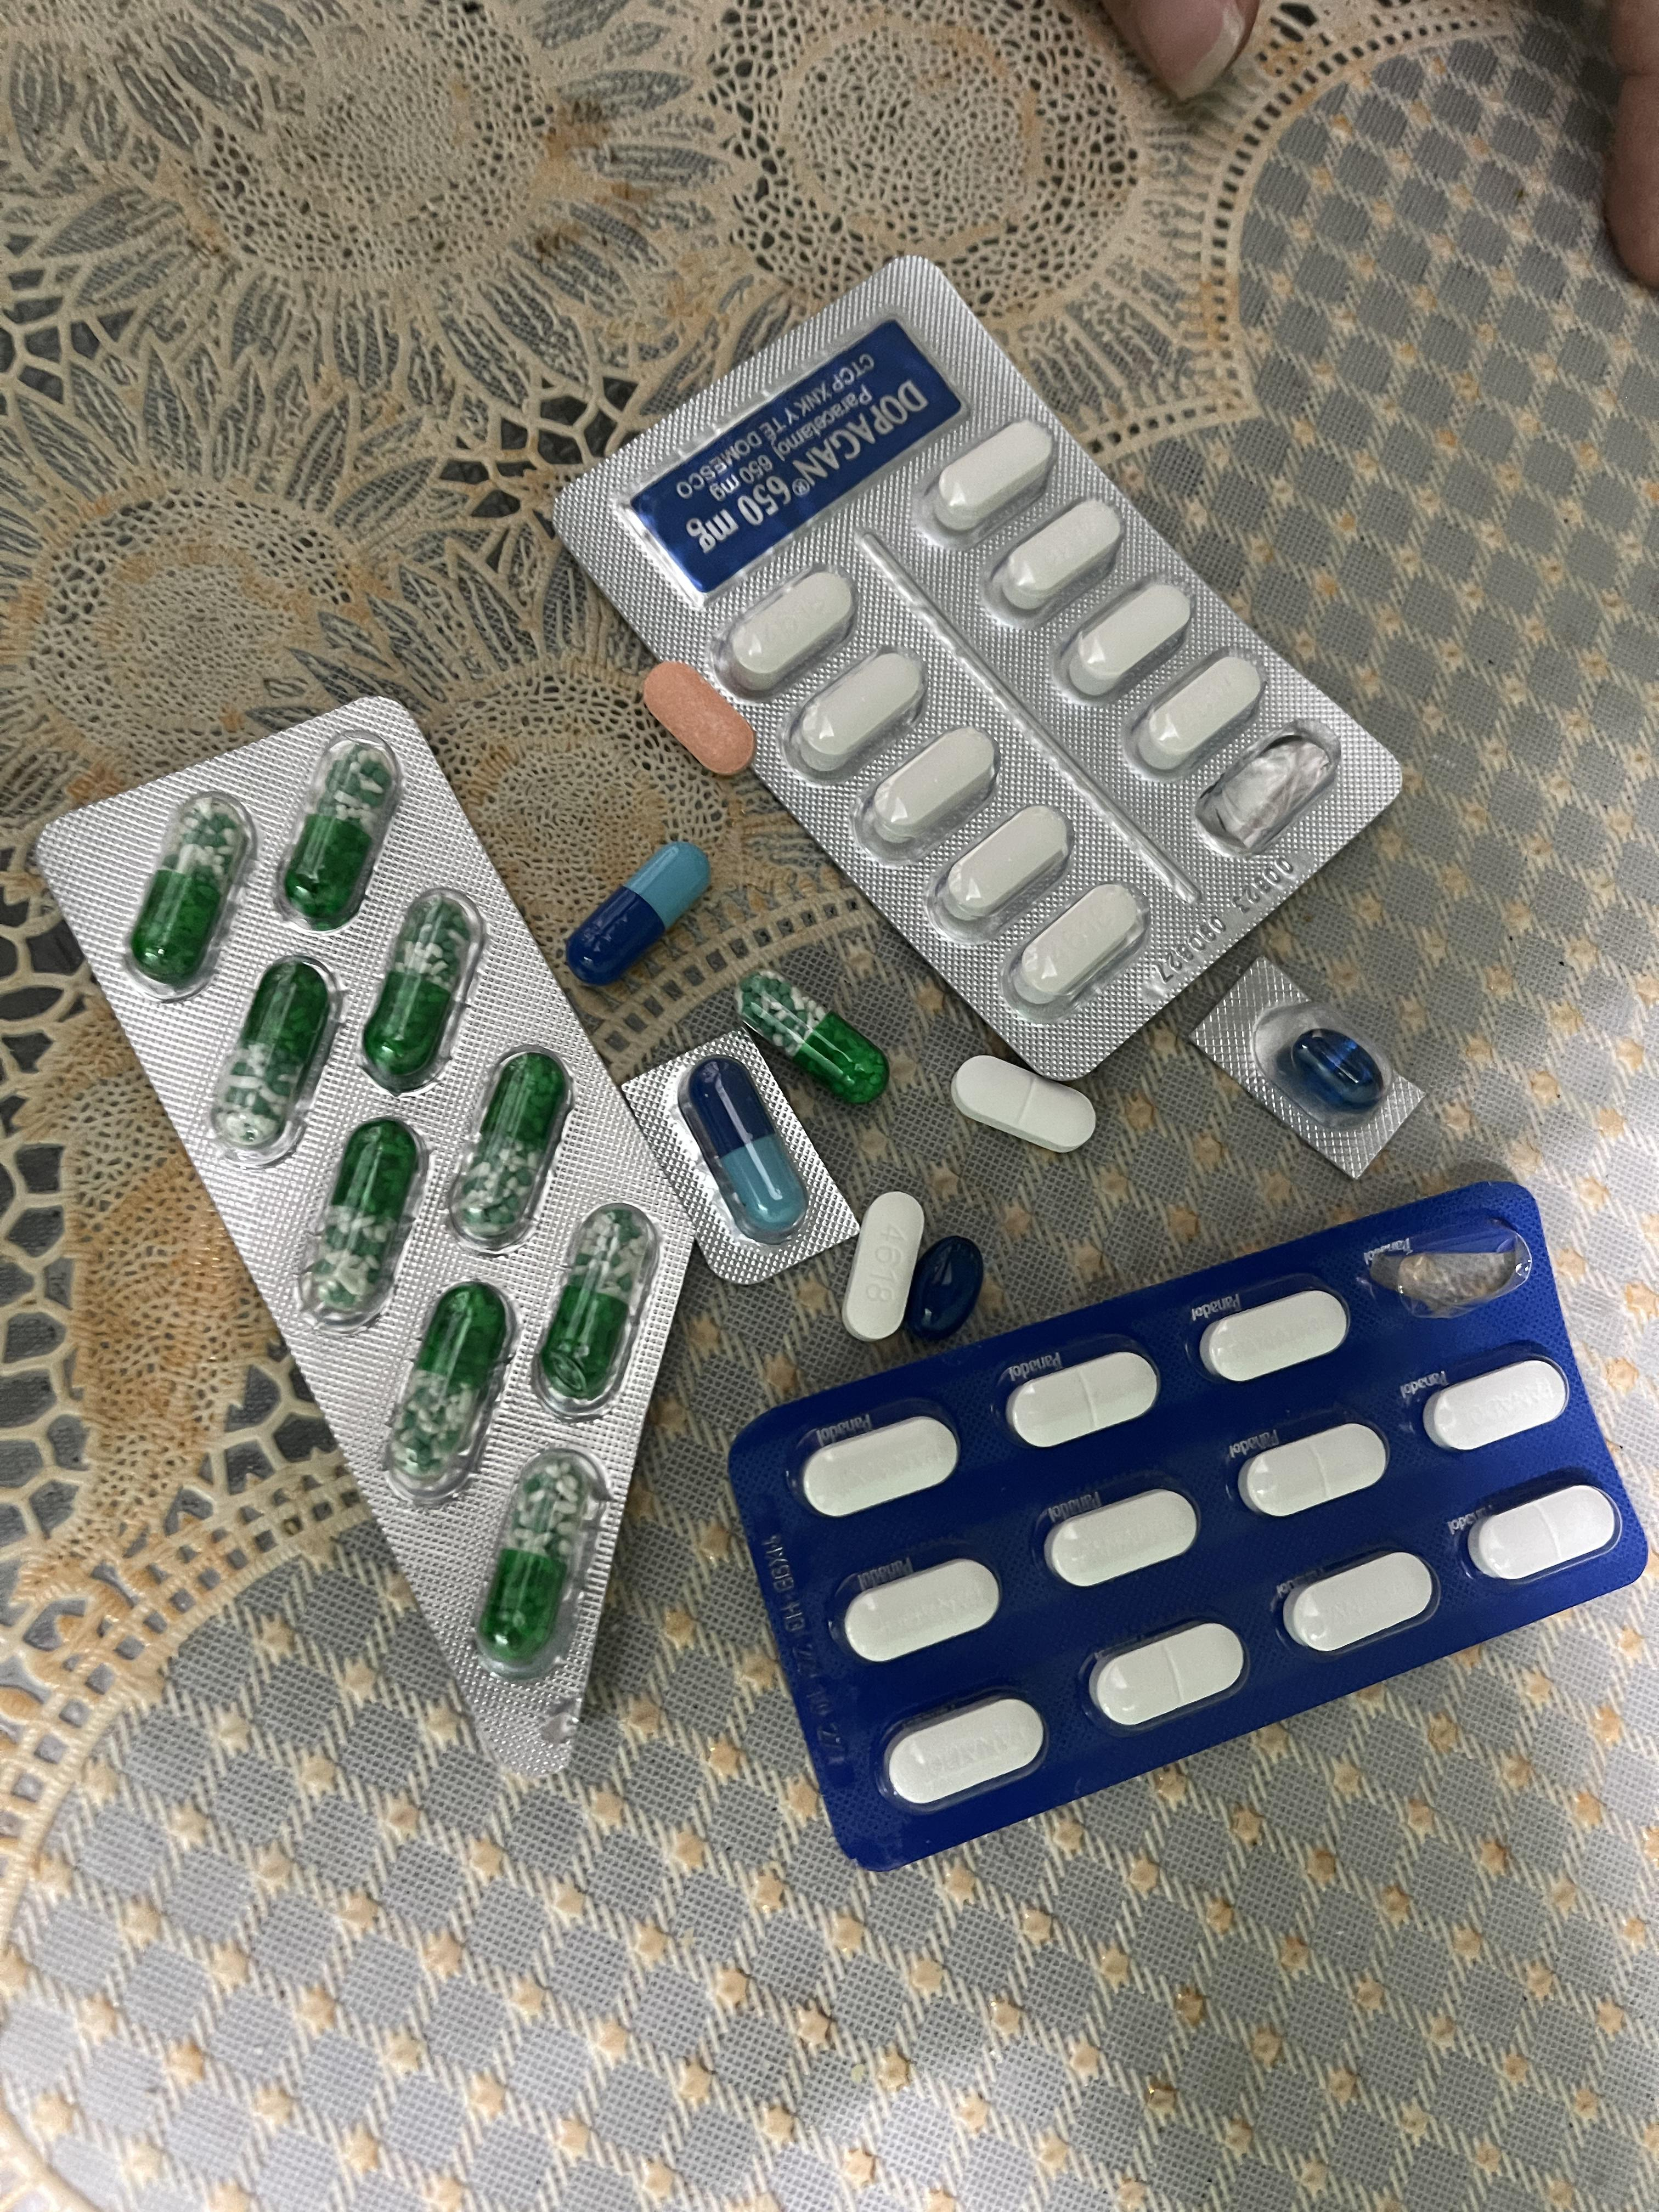Lincomyxin_500mg: (1283, 1028, 1385, 1113), (906, 1233, 983, 1334)
Loratadine_10mg: (641, 660, 758, 775)
Paracetamol_350mg: (884, 1693, 1047, 1813), (1084, 1620, 1248, 1733), (842, 1555, 1002, 1665), (1283, 1550, 1441, 1656), (802, 1414, 960, 1521), (1044, 1489, 1201, 1592), (1006, 1350, 1162, 1451), (1466, 1484, 1619, 1583), (1195, 1287, 1351, 1383), (1239, 1423, 1391, 1521), (951, 1057, 1096, 1157), (1424, 1359, 1572, 1453)
Paracetamol_500mg: (791, 646, 924, 779), (721, 563, 852, 697), (934, 801, 1072, 928), (1126, 646, 1262, 773), (866, 725, 999, 852), (1060, 575, 1192, 702), (1009, 883, 1143, 1005), (995, 498, 1124, 618), (934, 418, 1056, 533), (840, 1191, 932, 1343)
Paracetamol_650mg: (471, 1454, 606, 1677), (382, 1284, 516, 1496), (209, 958, 343, 1153), (296, 1123, 427, 1322), (127, 794, 256, 991), (533, 1211, 657, 1413), (361, 894, 483, 1089), (446, 1054, 570, 1244), (281, 735, 404, 925), (741, 974, 887, 1109)
pill: (681, 1057, 809, 1242), (566, 840, 714, 986)
